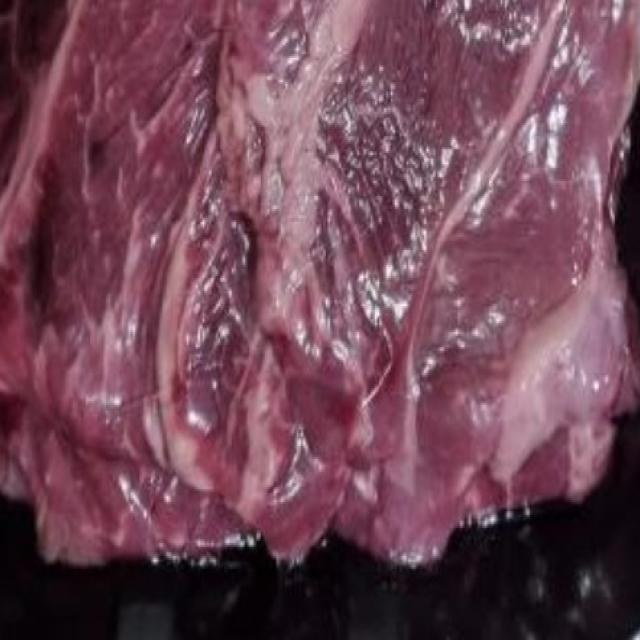pork: (64, 0, 559, 549)
